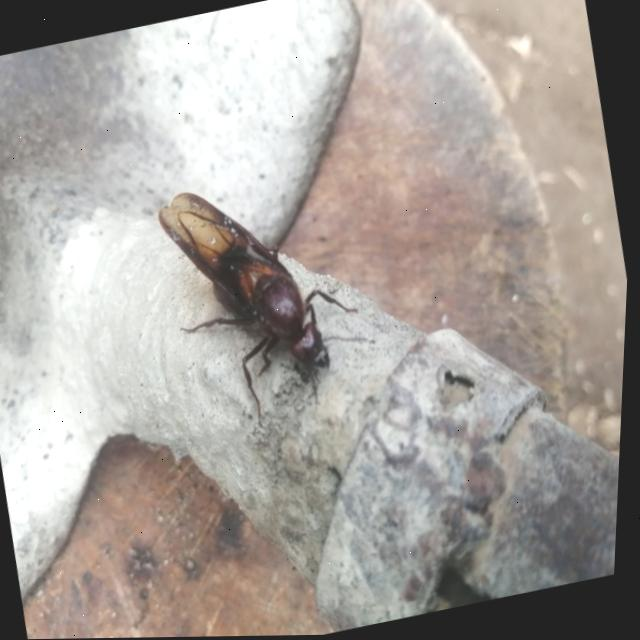Alive-Female-Alate: (144, 156, 388, 445)
